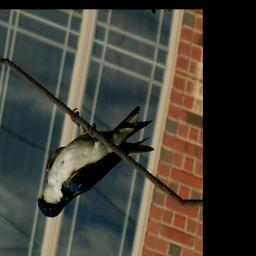Swallow: (35, 74, 162, 253)
